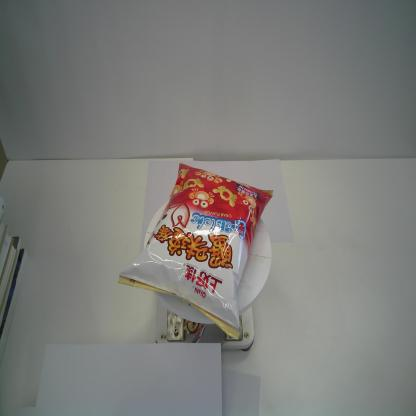Puffed Food: (117, 162, 275, 341)
